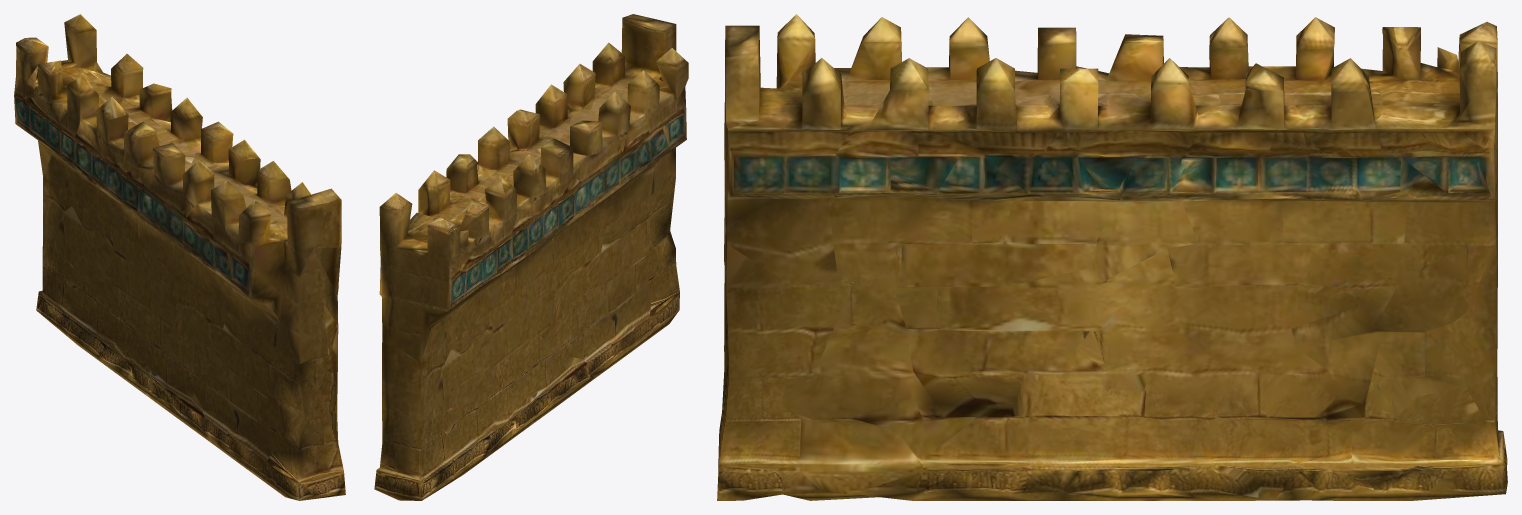
Rendered from castle_wall_gold.glb.
3 renders of one model, left to right at view 1: azimuth 30°, elevation 25°; view 2: azimuth 150°, elevation 25°; view 3: azimuth 270°, elevation 25°, orthographic. The views are drawn at different scales.
Parts seen in each view (by area): view 1: tripo_node_62d550bf-6d5e-4ff5-a318-d668af69aba0; view 2: tripo_node_62d550bf-6d5e-4ff5-a318-d668af69aba0; view 3: tripo_node_62d550bf-6d5e-4ff5-a318-d668af69aba0.
Boxes of the visible parts, x1,y1,x2,y2 form: tripo_node_62d550bf-6d5e-4ff5-a318-d668af69aba0: [14, 14, 345, 500]; tripo_node_62d550bf-6d5e-4ff5-a318-d668af69aba0: [374, 14, 688, 500]; tripo_node_62d550bf-6d5e-4ff5-a318-d668af69aba0: [717, 14, 1507, 500].
Size of the model in its own units: 0.1651 by 0.6132 by 0.9747.
1 material, 1 textured.
